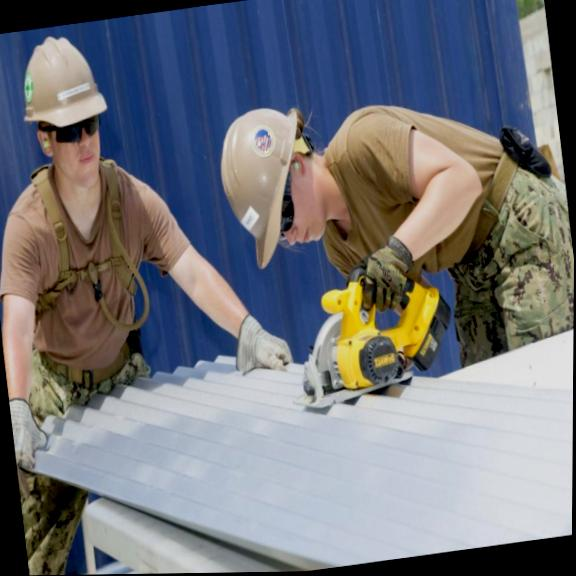no_safety_vest: (311, 70, 514, 307), (0, 147, 174, 396)
